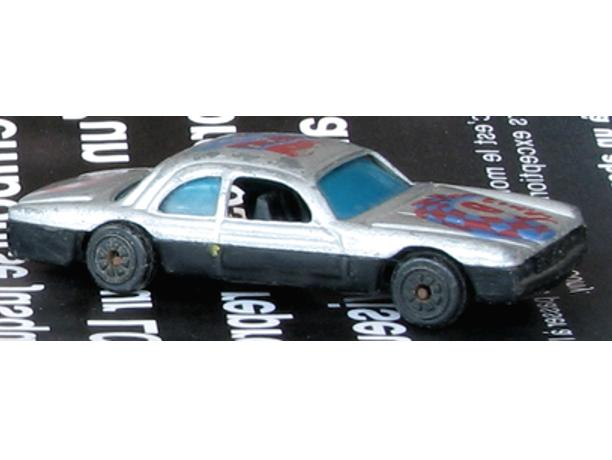toy-car: (6, 130, 588, 331)
